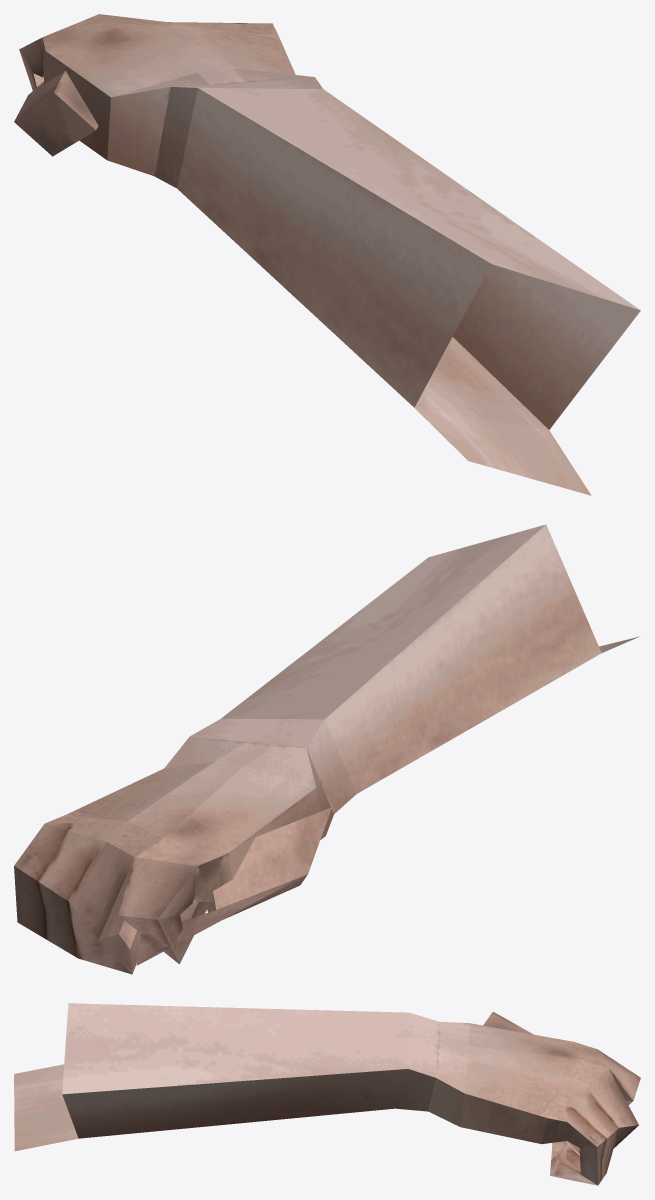
File: Hand_Fist.fbx
3 renders of one model, top to bottom at view 1: azimuth 30°, elevation 25°; view 2: azimuth 150°, elevation 25°; view 3: azimuth 270°, elevation 25°, orthographic. The views are drawn at different scales.
Parts seen in each view (by area): view 1: Hand_Fist_Mesh; view 2: Hand_Fist_Mesh; view 3: Hand_Fist_Mesh.
Part boxes in pixels (<box>): Hand_Fist_Mesh: <box>14,14,640,495</box>; Hand_Fist_Mesh: <box>14,524,639,974</box>; Hand_Fist_Mesh: <box>14,1003,640,1185</box>.
Bounding box in the file's own units: 0.1714 × 0.1258 × 0.5103.
1 material, 1 textured.
